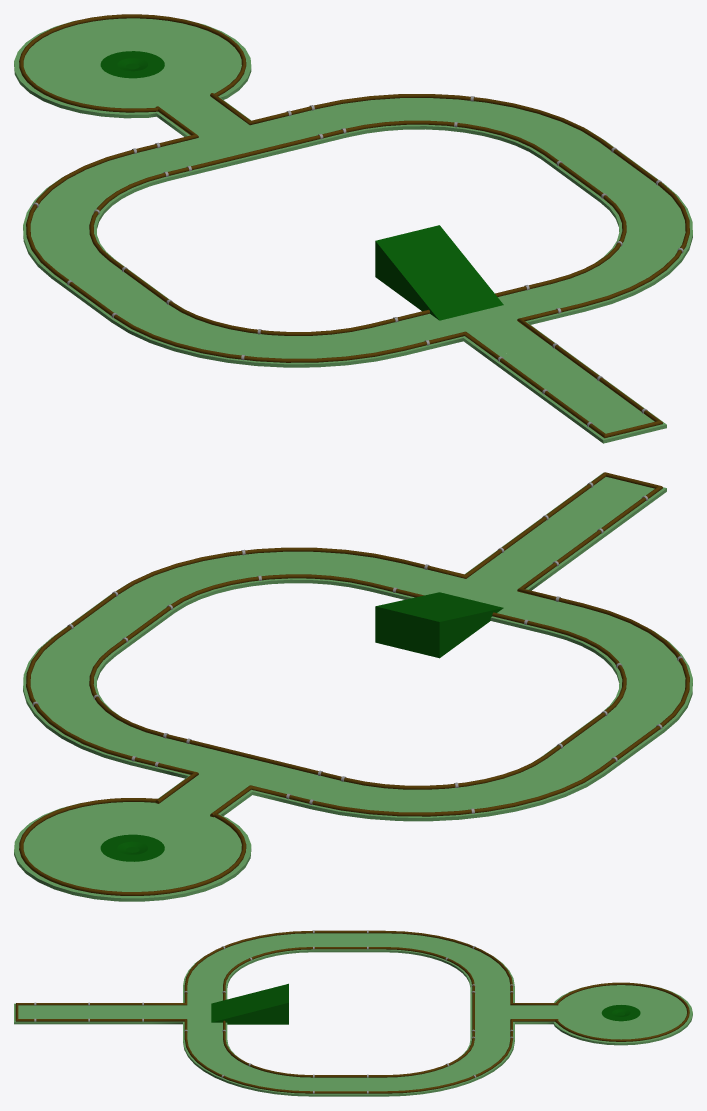
Rendered from HoleTest.FBX.
3 views of the same model, one above another, from view 1: azimuth 30°, elevation 25°; view 2: azimuth 150°, elevation 25°; view 3: azimuth 270°, elevation 25° (orthographic). The views are drawn at different scales.
Visible parts, largest first — view 1: Start002; view 2: Start002; view 3: Start002.
Boxes of the visible parts, x1=… form: Start002: x1=14, y1=14, x2=692, y2=443; Start002: x1=14, y1=472, x2=692, y2=901; Start002: x1=14, y1=930, x2=692, y2=1096.
Size of the model in its own units: 4296 by 269 by 7557.
